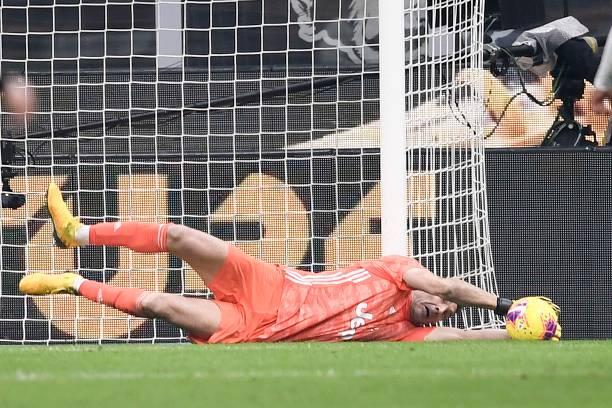Goalkeeper: (19, 185, 526, 343)
ball: (506, 296, 561, 340)
